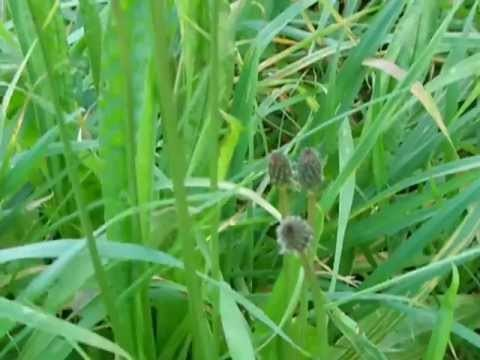buckhorn plantain: (244, 141, 350, 317)
